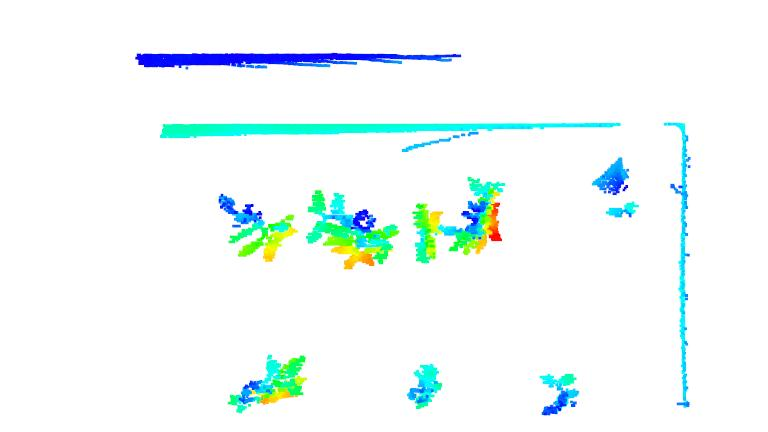chickpea: (304, 187, 400, 271), (214, 190, 298, 264), (223, 351, 315, 418), (452, 178, 508, 258), (408, 197, 445, 264), (535, 366, 580, 414), (405, 363, 447, 412)
